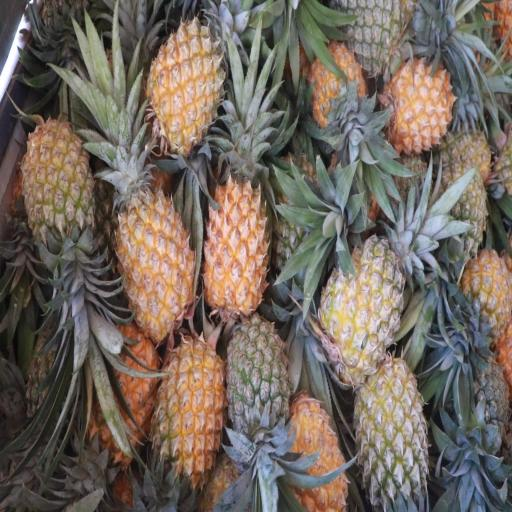------------------------------: (354, 363, 428, 508), (324, 247, 403, 381)
Pineapple - v8 v1: (117, 173, 192, 341), (27, 124, 95, 268), (151, 22, 224, 147), (159, 345, 225, 483), (207, 180, 268, 326), (100, 339, 162, 459), (288, 401, 347, 509), (393, 64, 452, 150), (312, 48, 368, 136), (461, 256, 511, 349)
